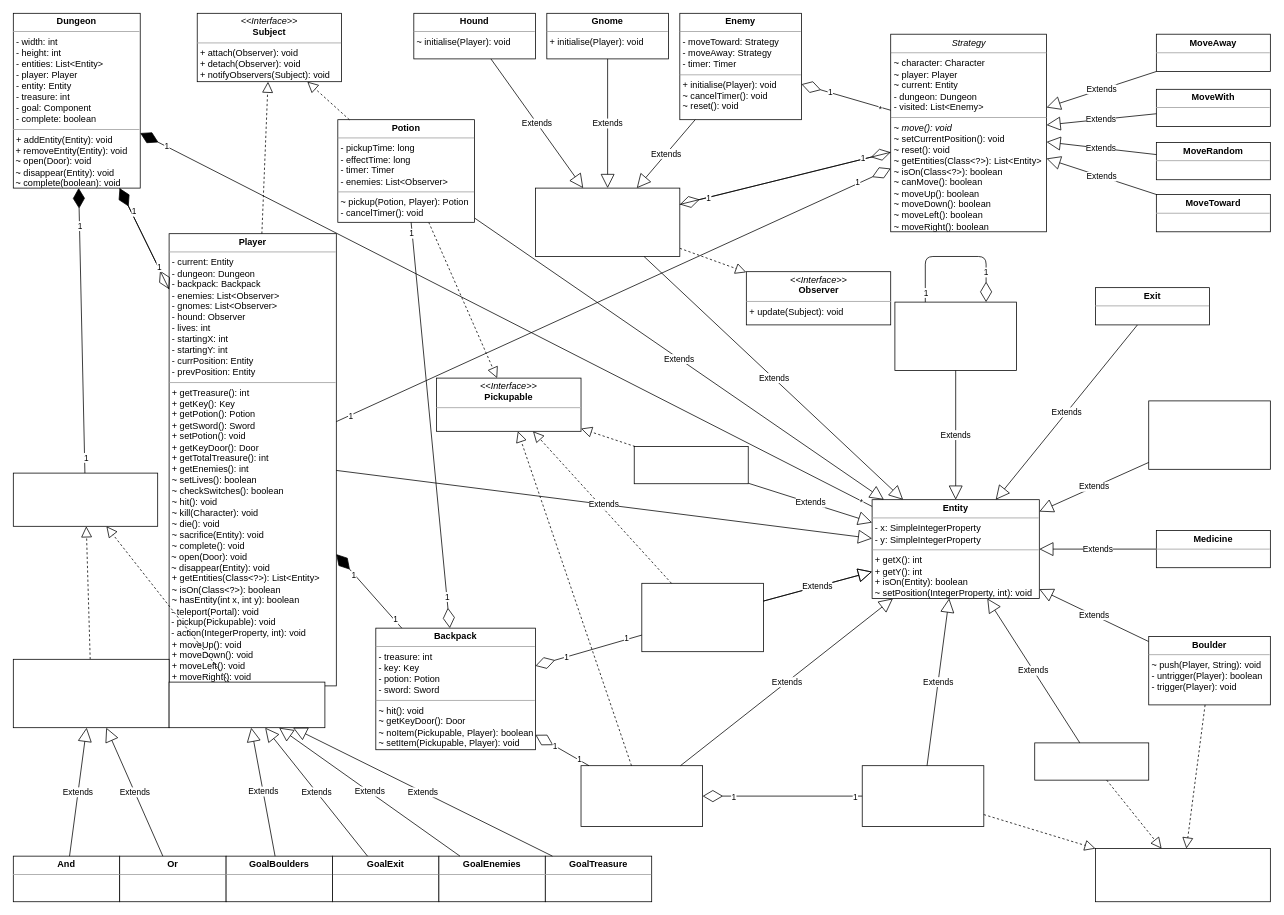
Some shapes in this 1284 by 915 pixel diagram are drawn without their labels. Here are the shapes that lost their labels. From the top down, the centre of each, then its label:
At point 607,221: "Character ~ strategy: Strategy ~ collide(Player): void".
At point 955,335: "Portal - portal: Portal".
At point 1209,434: "Switch - triggered: boolean + setTrigger(Player): void".
At point 690,465: "Treasure".
At point 85,499: "<<Interface>> Component + complete(Player): boolean".
At point 702,617: "Sword - hits: int ~ capable(): booleann".
At point 91,693: "Composite ~ components: List<Component> + add(Component): void".
At point 246,704: "Leaf".
At point 1091,761: "Wall".
At point 641,795: "Key - door: Door".
At point 922,795: "Door - open: boolean".
At point 1182,875: "<<Interface>> Blockable + block(Player, IntegerProperty, int): void".
